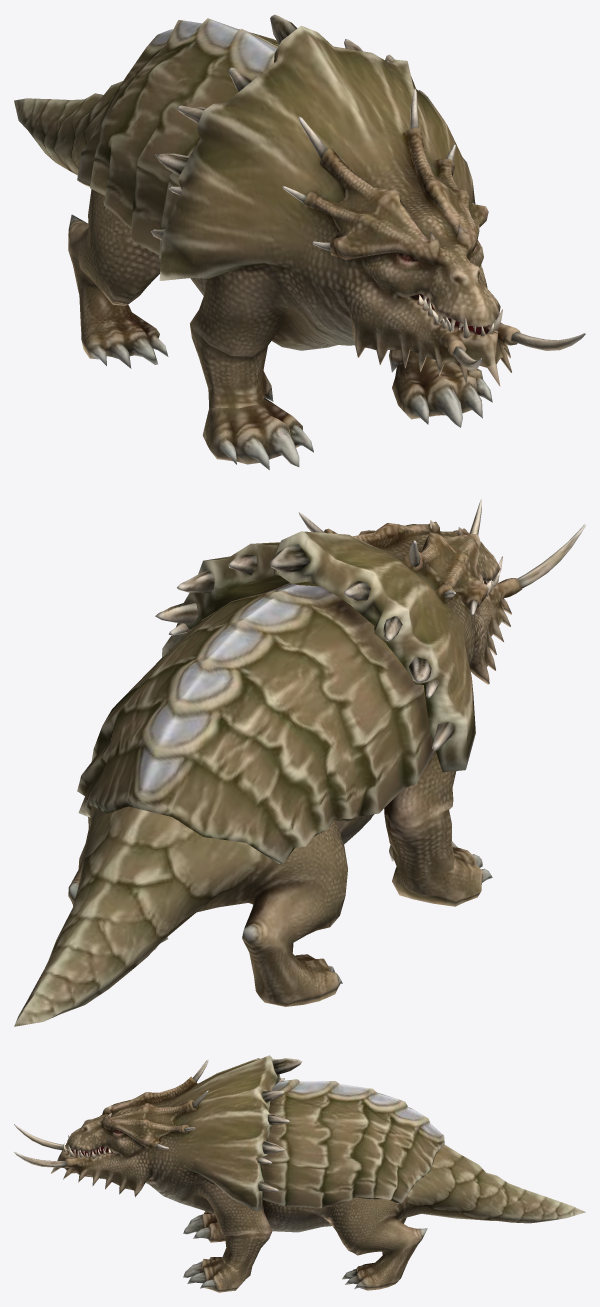
The model's file is 76-behemoth.glb.
3 renders of one model, top to bottom at view 1: azimuth 30°, elevation 25°; view 2: azimuth 150°, elevation 25°; view 3: azimuth 270°, elevation 25°, orthographic. The views are drawn at different scales.
Bounding box in the file's own units: 2.94 × 3.39 × 8.64.
Materials: 1 (1 with a texture image).
